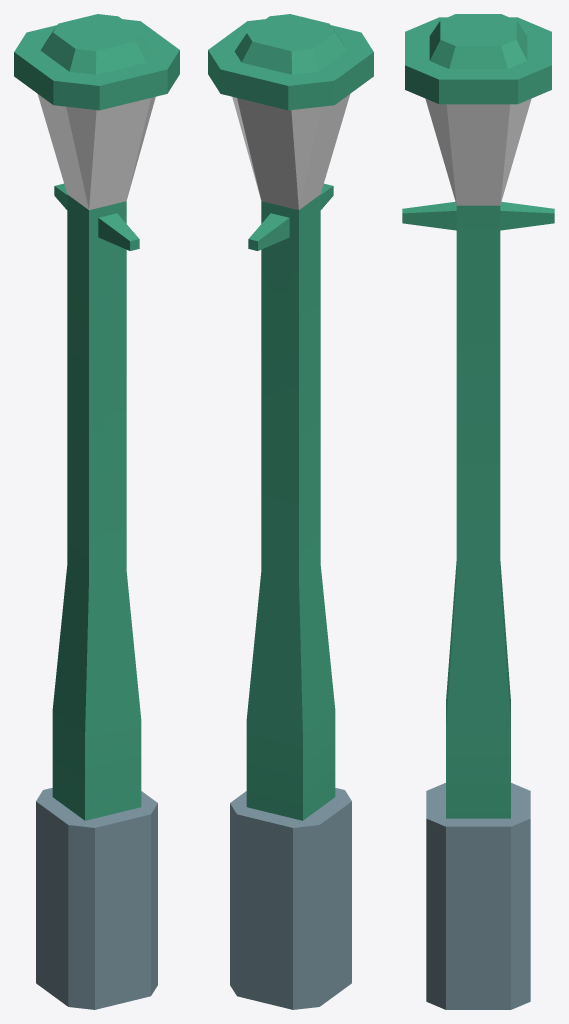
Rendered from lantern.glb.
3 renders of one model, left to right at view 1: azimuth 30°, elevation 25°; view 2: azimuth 150°, elevation 25°; view 3: azimuth 270°, elevation 25°, orthographic.
Visible parts, largest first — view 1: lantern; view 2: lantern; view 3: lantern.
Part boxes in pixels (x1=…): lantern: x1=14, y1=14, x2=179, y2=1009; lantern: x1=208, y1=14, x2=373, y2=1009; lantern: x1=402, y1=14, x2=554, y2=1009.
Bounding box in the file's own units: 0.4329 × 3.11 × 0.4486.
